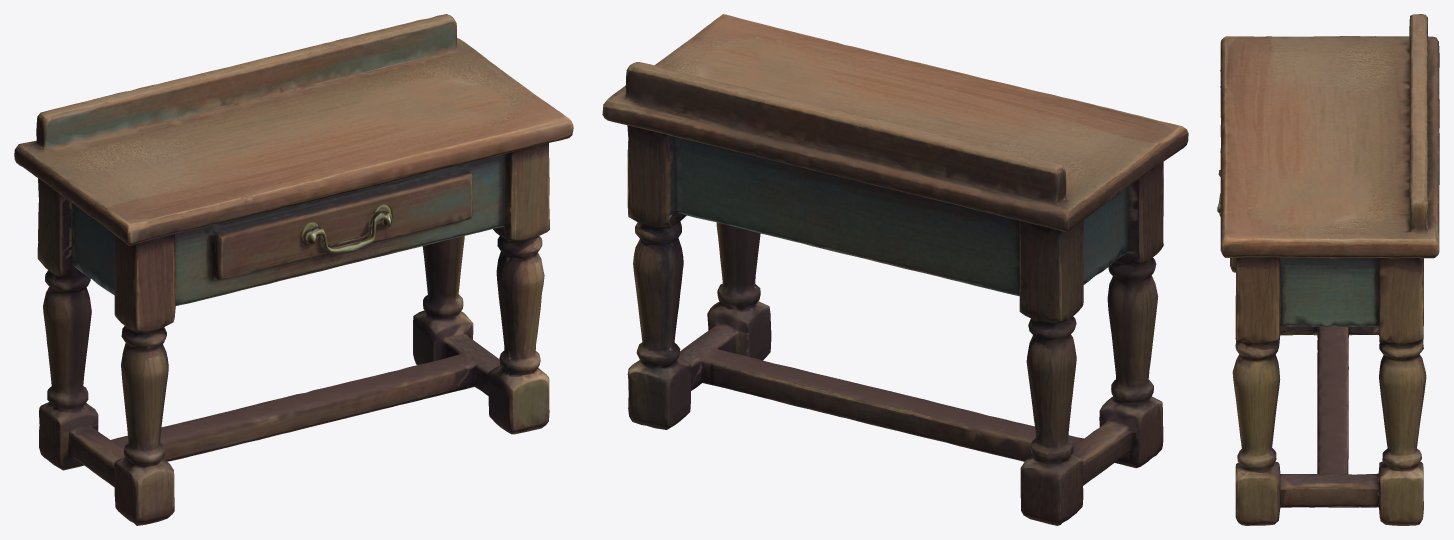
Rendered from Furn_ConsoleTable.fbx.
3 renders of one model, left to right at view 1: azimuth 30°, elevation 25°; view 2: azimuth 150°, elevation 25°; view 3: azimuth 270°, elevation 25°, orthographic. The views are drawn at different scales.
Visible parts, largest first — view 1: texture_mapping; view 2: texture_mapping; view 3: texture_mapping.
Boxes of the visible parts, <box> form: texture_mapping: <box>14,14,573,525</box>; texture_mapping: <box>602,14,1188,525</box>; texture_mapping: <box>1217,14,1439,525</box>.
Bounding box in the file's own units: 1 × 0.4574 × 0.7398.
1 material, 1 textured.
